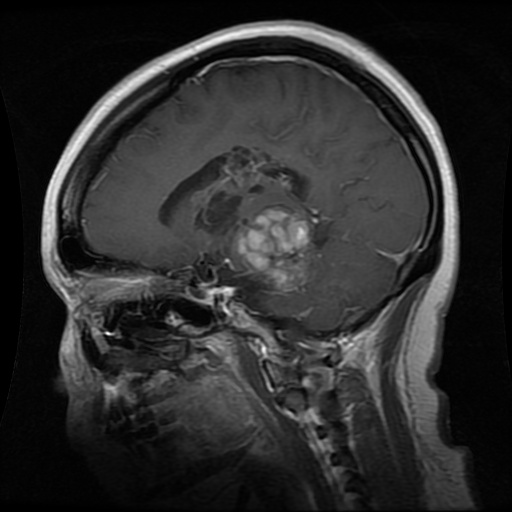glioma: (192, 140, 334, 298)
